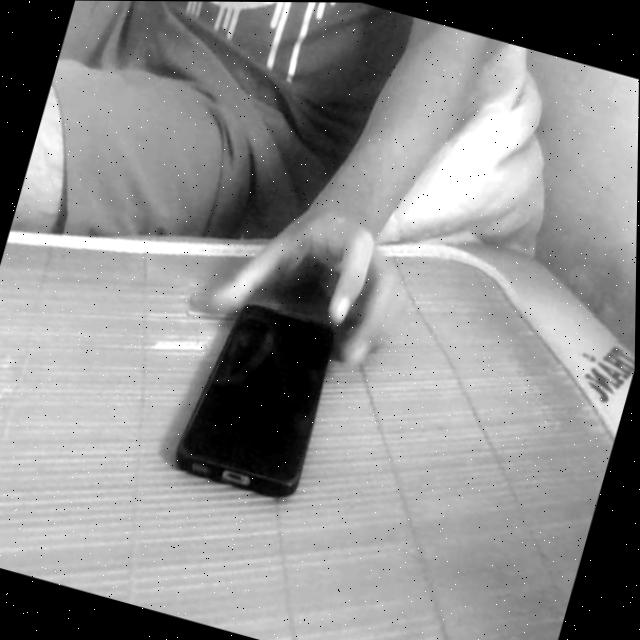phone: (149, 253, 370, 533)
